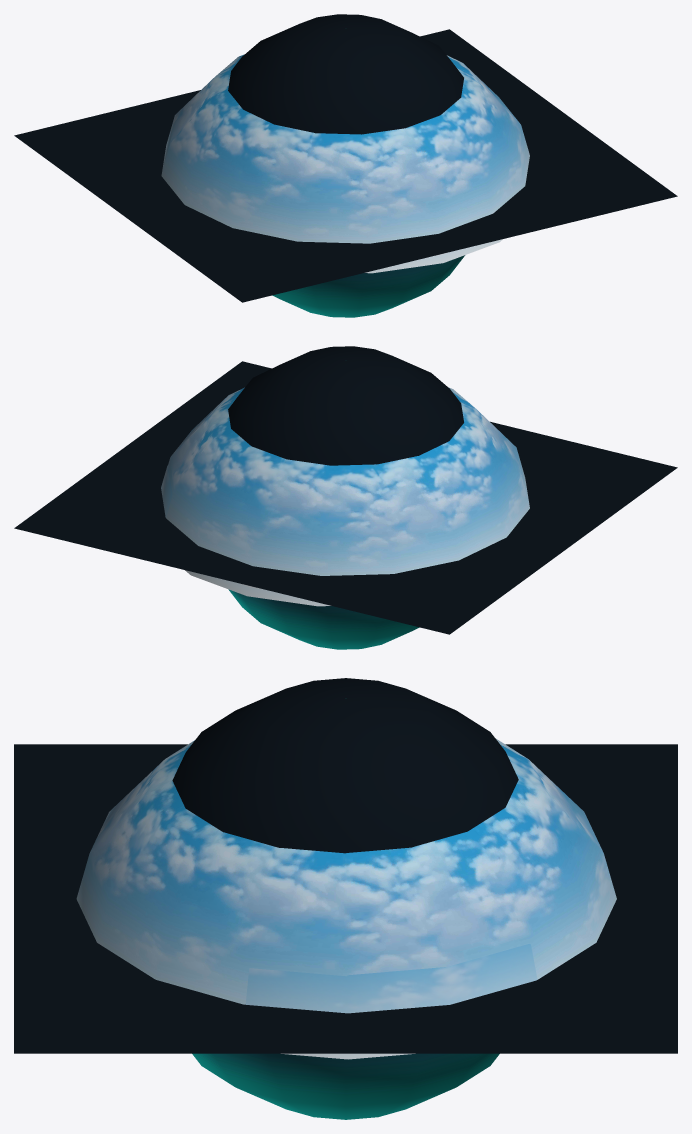
File: BattleArea_0070001.fbx
3 views of the same model, one above another, from view 1: azimuth 30°, elevation 25°; view 2: azimuth 150°, elevation 25°; view 3: azimuth 270°, elevation 25° (orthographic). The views are drawn at different scales.
Visible parts, largest first — view 1: battle_07_001_sky_01, skillbg_02, skillbg_01, sky_01_001; view 2: battle_07_001_sky_01, skillbg_02, skillbg_01, sky_01_001; view 3: skillbg_02, battle_07_001_sky_01, skillbg_01, sky_01_001.
Boxes of the visible parts, x1=… form: battle_07_001_sky_01: x1=161, y1=54, x2=529, y2=256; skillbg_02: x1=14, y1=29, x2=677, y2=302; skillbg_01: x1=228, y1=14, x2=465, y2=317; sky_01_001: x1=365, y1=239, x2=502, y2=273; battle_07_001_sky_01: x1=166, y1=387, x2=529, y2=589; skillbg_02: x1=14, y1=361, x2=677, y2=634; skillbg_01: x1=228, y1=346, x2=463, y2=649; sky_01_001: x1=161, y1=465, x2=330, y2=606; skillbg_02: x1=14, y1=744, x2=677, y2=1053; battle_07_001_sky_01: x1=76, y1=738, x2=616, y2=1004; skillbg_01: x1=172, y1=678, x2=518, y2=1119; sky_01_001: x1=245, y1=944, x2=537, y2=1059.
Size of the model in its own units: 310 by 187 by 281.
